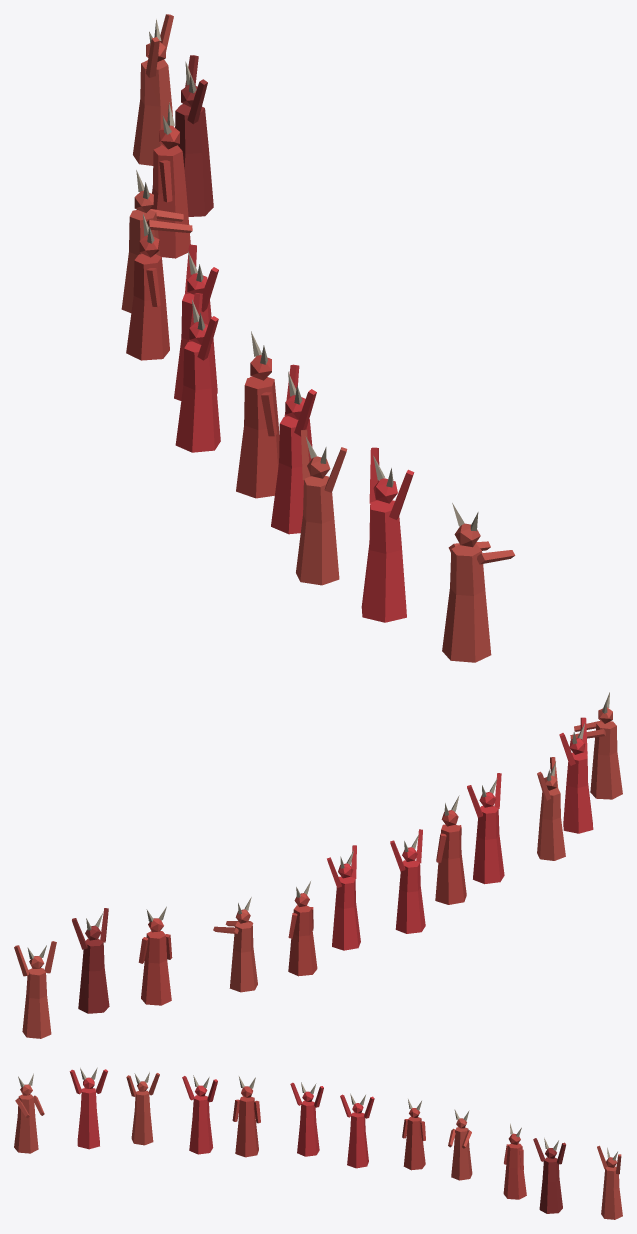
The model's file is Stands_8_0_1_Ice.obj.
3 renders of one model, top to bottom at view 1: azimuth 30°, elevation 25°; view 2: azimuth 150°, elevation 25°; view 3: azimuth 270°, elevation 25°, orthographic. The views are drawn at different scales.
Visible parts, largest first — view 1: Stands_8_0_1_Ice; view 2: Stands_8_0_1_Ice; view 3: Stands_8_0_1_Ice.
Part boxes in pixels (x1,y1,x2,y2): Stands_8_0_1_Ice: [121, 14, 515, 662]; Stands_8_0_1_Ice: [14, 692, 622, 1038]; Stands_8_0_1_Ice: [14, 1067, 622, 1219].
Bounding box in the file's own units: 10.77 × 4.46 × 32.3.
Materials: 1 (1 with a texture image).
